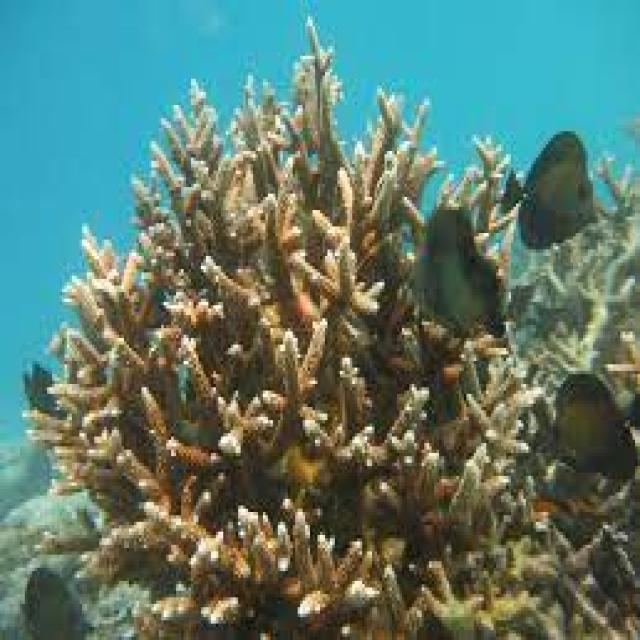Healthy: (26, 21, 524, 605)
